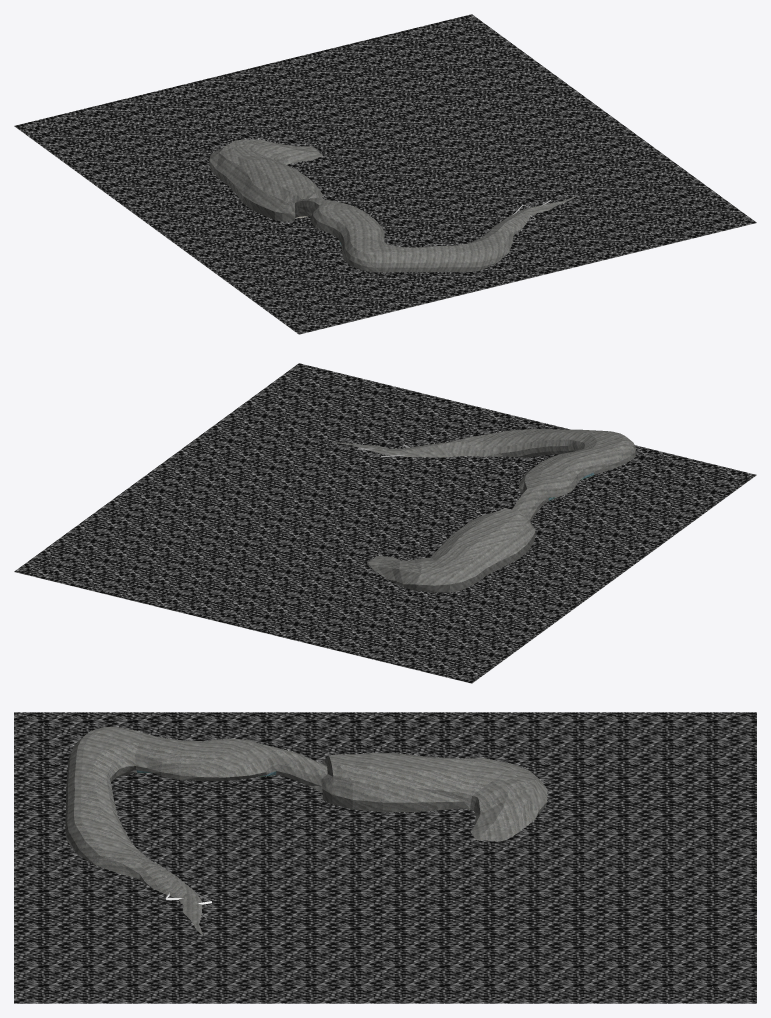
3 renders of one model, top to bottom at view 1: azimuth 30°, elevation 25°; view 2: azimuth 150°, elevation 25°; view 3: azimuth 270°, elevation 25°, orthographic. The views are drawn at different scales.
Visible parts, largest first — view 1: underwater-GRP-47528-pool.001, underwater-GRP-47533-cave.001; view 2: underwater-GRP-47528-pool.001, underwater-GRP-47533-cave.001; view 3: underwater-GRP-47528-pool.001, underwater-GRP-47533-cave.001, underwater-GRP-47534-cave.001.
Part boxes in pixels (x1,y1,x2,y2): underwater-GRP-47528-pool.001: (14,14,756,334); underwater-GRP-47533-cave.001: (209,139,529,272); underwater-GRP-47528-pool.001: (14,363,756,683); underwater-GRP-47533-cave.001: (368,429,636,592); underwater-GRP-47528-pool.001: (14,712,756,1003); underwater-GRP-47533-cave.001: (65,726,547,897); underwater-GRP-47534-cave.001: (144,794,545,936).
Size of the model in its own units: 90435 by 14814 by 97481.
12 materials, 11 textured.
